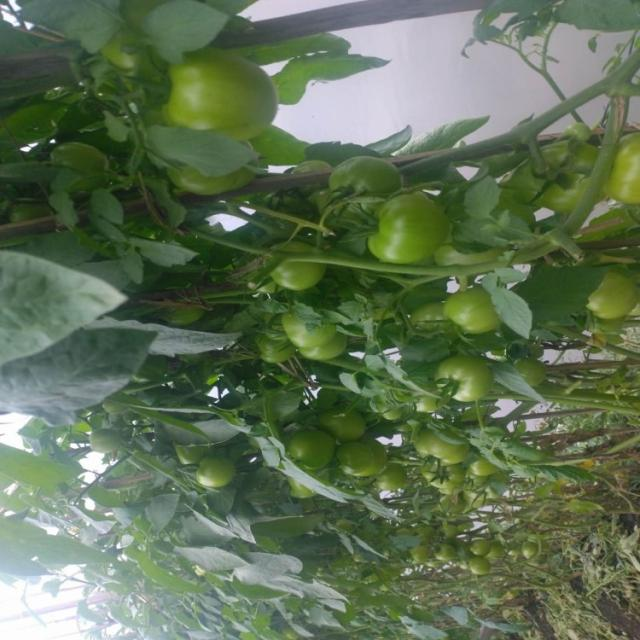tomato: (160, 44, 280, 147), (515, 138, 602, 216), (370, 188, 446, 272), (325, 152, 405, 206), (273, 301, 344, 357), (170, 162, 258, 206), (430, 350, 495, 409), (595, 259, 640, 337), (605, 131, 640, 217), (267, 244, 329, 290), (416, 417, 472, 465), (450, 287, 502, 338), (56, 140, 105, 188), (196, 452, 244, 496), (320, 401, 368, 444), (335, 440, 385, 479), (414, 464, 461, 505), (283, 430, 329, 470), (301, 335, 347, 368), (464, 445, 500, 481), (288, 476, 313, 512), (419, 536, 444, 572), (474, 538, 504, 567), (508, 537, 538, 563), (455, 543, 480, 571), (434, 538, 456, 567)
